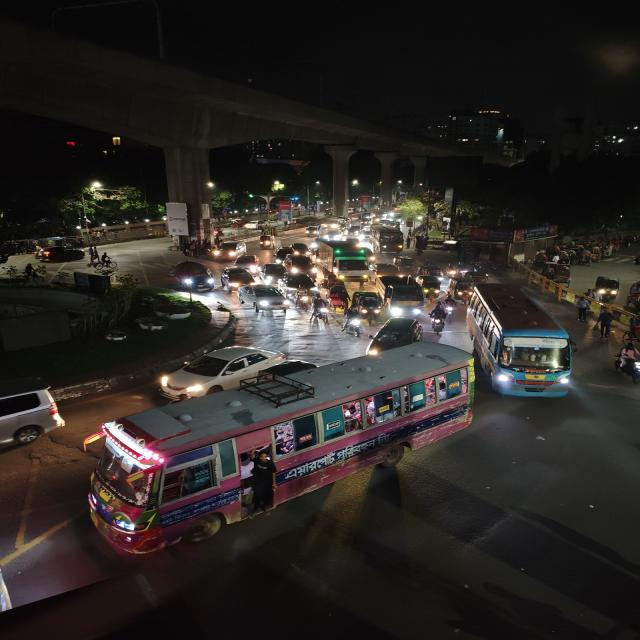bicycle: (91, 254, 123, 271)
bus: (84, 344, 473, 554), (463, 281, 577, 400), (370, 226, 404, 254)
car: (159, 343, 286, 397), (1, 373, 68, 459), (365, 316, 425, 356), (233, 283, 290, 317), (165, 260, 217, 292), (36, 245, 94, 263), (217, 267, 260, 290), (283, 255, 319, 278), (212, 239, 248, 261), (229, 254, 263, 272), (289, 240, 313, 256), (344, 226, 367, 237), (324, 230, 343, 240)
cng: (351, 289, 384, 321), (593, 275, 621, 299), (420, 275, 442, 297), (256, 233, 276, 250)
motorcycle: (613, 337, 640, 385), (292, 279, 314, 312), (340, 308, 365, 337), (429, 304, 450, 335), (310, 298, 330, 324), (442, 294, 458, 318)
pedestrian: (595, 306, 616, 338), (575, 294, 592, 322), (555, 282, 572, 304)
pickup_van: (380, 276, 426, 318), (306, 223, 326, 237)
rickshaw: (592, 274, 622, 300), (327, 284, 349, 312), (628, 279, 640, 308)
truck: (320, 241, 374, 281)
